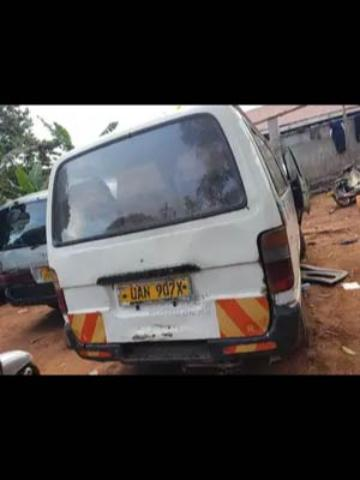van: (43, 104, 304, 363)
